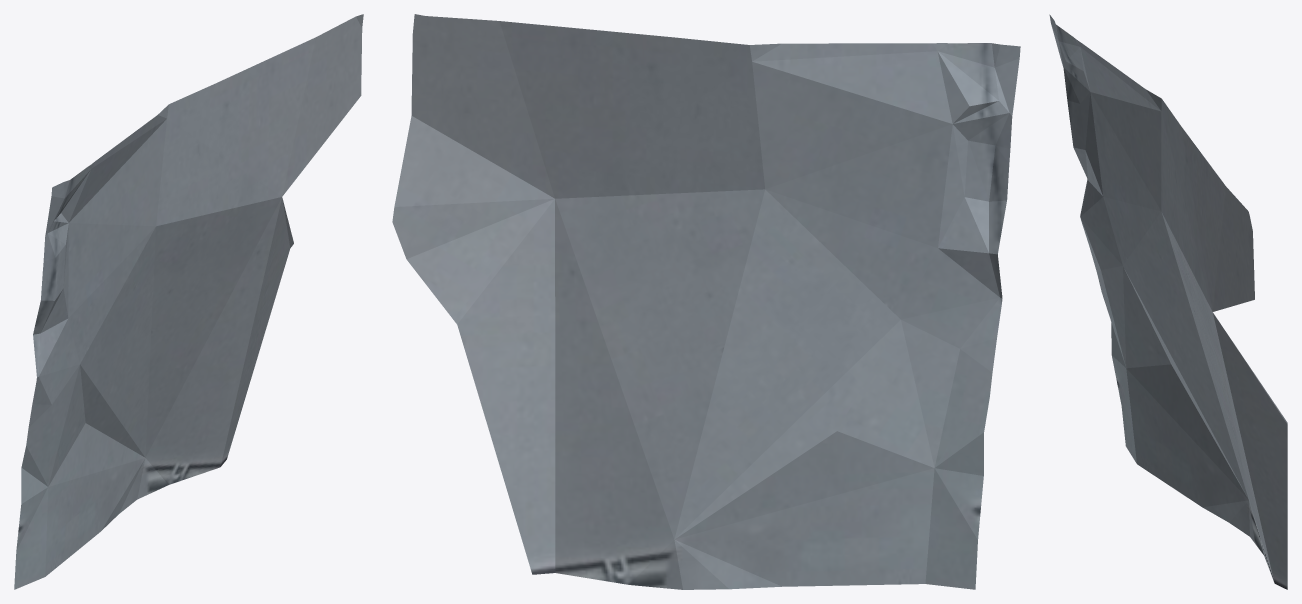
The picture shows the model from 3 angles, left to right: view 1: azimuth 30°, elevation 25°; view 2: azimuth 150°, elevation 25°; view 3: azimuth 270°, elevation 25°; orthographic projection. The views are drawn at different scales.
Bounding box in the file's own units: 0.8374 × 0.8373 × 0.418.
Materials: 3 (3 with a texture image).
